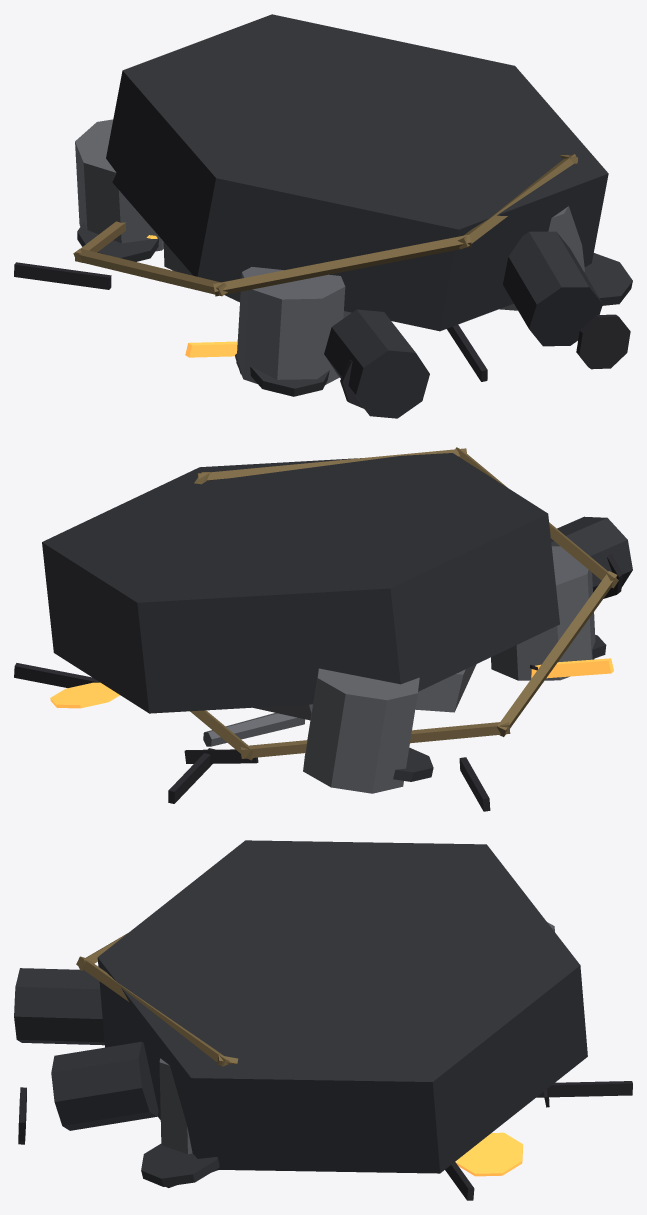
The model's file is Wreck_Aegis_Mothership.fbx.
3 renders of one model, top to bottom at view 1: azimuth 30°, elevation 25°; view 2: azimuth 150°, elevation 25°; view 3: azimuth 270°, elevation 25°, orthographic. The views are drawn at different scales.
Visible parts, largest first — view 1: Wreck_Aegis_Mothership; view 2: Wreck_Aegis_Mothership; view 3: Wreck_Aegis_Mothership.
Boxes of the visible parts, x1=… form: Wreck_Aegis_Mothership: x1=14, y1=14, x2=632, y2=418; Wreck_Aegis_Mothership: x1=14, y1=447, x2=632, y2=811; Wreck_Aegis_Mothership: x1=14, y1=840, x2=632, y2=1200.
Bounding box in the file's own units: 1.65 × 0.6311 × 1.9.
